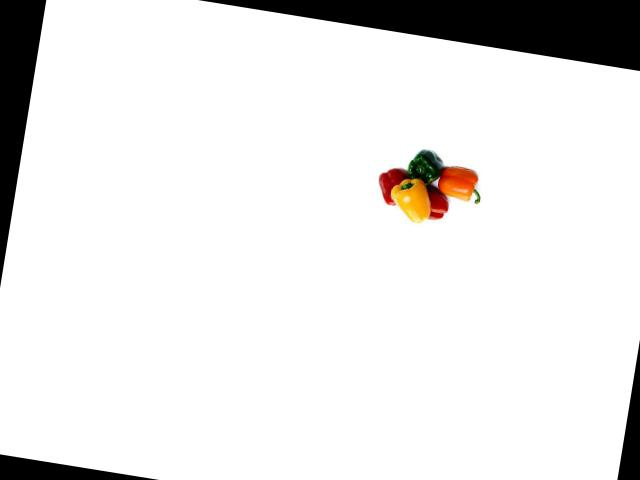bell_pepper: (396, 141, 447, 195)
